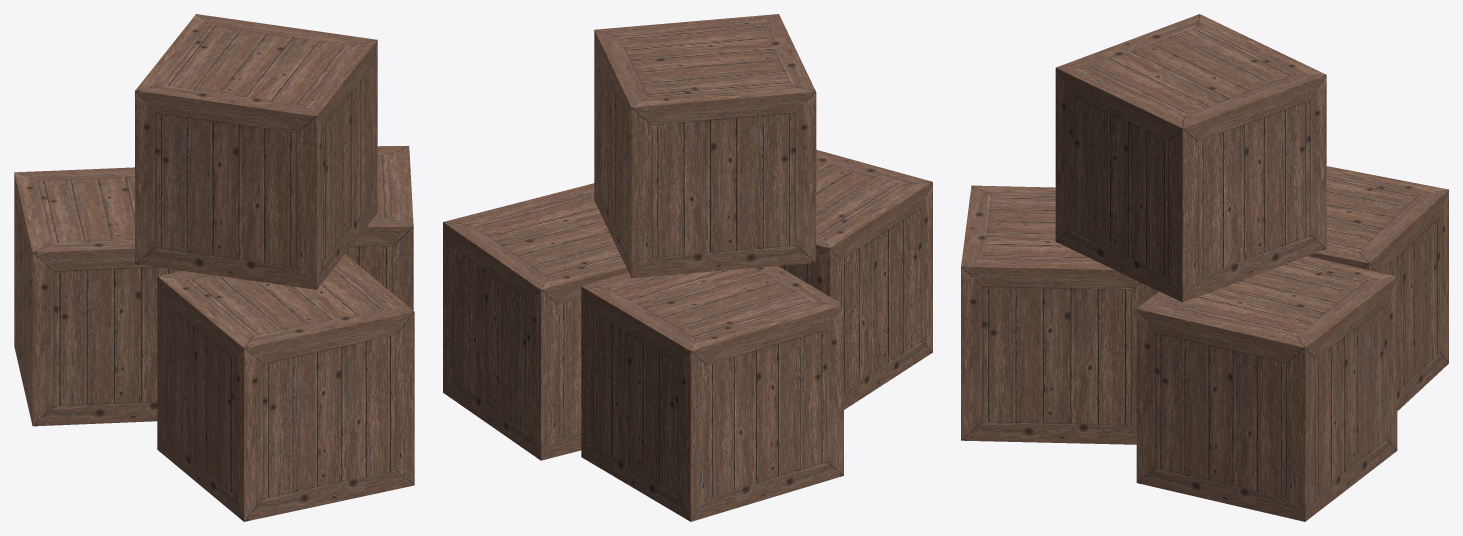
Rendered from Boxes.fbx.
The picture shows the model from 3 angles, left to right: view 1: azimuth 30°, elevation 25°; view 2: azimuth 150°, elevation 25°; view 3: azimuth 270°, elevation 25°; orthographic projection.
Parts seen in each view (by area): view 1: Boxes; view 2: Boxes; view 3: Boxes.
Part boxes in pixels (x1,y1,x2,y2): Boxes: [14, 14, 414, 521]; Boxes: [443, 14, 932, 521]; Boxes: [961, 14, 1448, 521].
Bounding box in the file's own units: 2.08 × 1.76 × 2.24.
